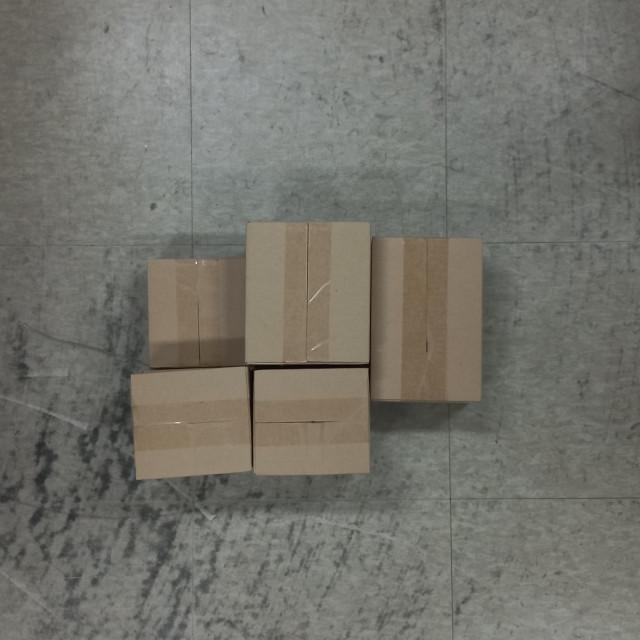box: (367, 237, 485, 405), (243, 219, 372, 368), (128, 367, 257, 482), (251, 362, 371, 478), (146, 257, 248, 369)
